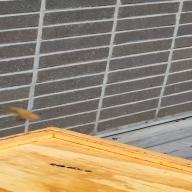Bee: (0, 99, 41, 128)
